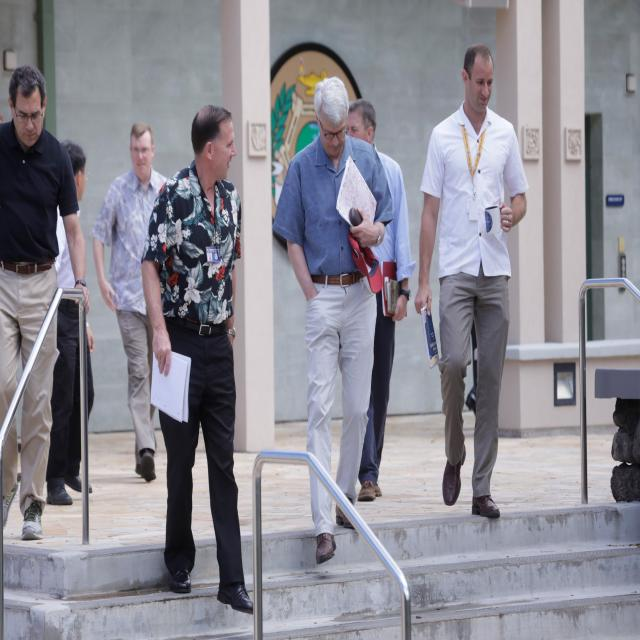body: (135, 98, 262, 623), (267, 71, 395, 574), (411, 40, 529, 521), (0, 59, 92, 549), (90, 120, 172, 485), (346, 98, 415, 503), (46, 138, 95, 504)
